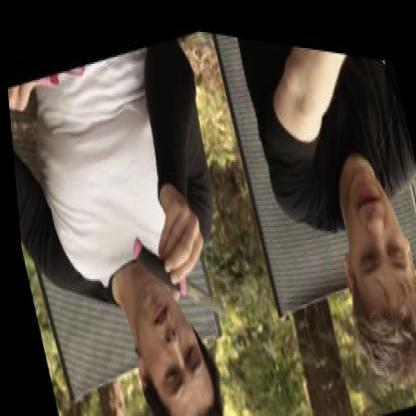knife: (119, 195, 233, 354)
